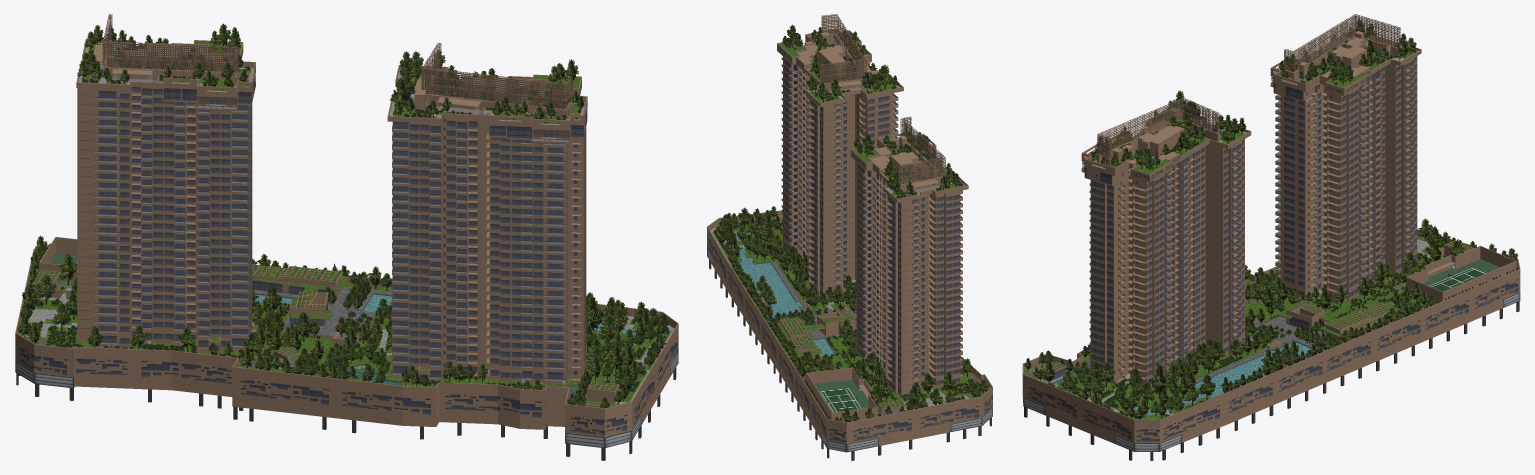
Rendered from midtown_modern.glb.
3 renders of one model, left to right at view 1: azimuth 30°, elevation 25°; view 2: azimuth 150°, elevation 25°; view 3: azimuth 270°, elevation 25°, orthographic. The views are drawn at different scales.
Parts seen in each view (by area): view 1: wall.080, wall.13317, Plane.2199, tree.133, wall.21450, Plane.267, tree.327, tree.303; view 2: wall.13317, Plane.2199, wall.080, tree.133, tree.327, tree.303, wall.21450, Plane.267; view 3: wall.080, wall.13317, Plane.2199, tree.133, tree.327, wall.21450, Plane.267, tree.303.
Part boxes in pixels (<box>): wall.080: <box>387,65,587,384</box>; wall.13317: <box>76,38,256,354</box>; Plane.2199: <box>15,237,678,460</box>; tree.133: <box>17,235,669,408</box>; wall.21450: <box>421,43,572,139</box>; Plane.267: <box>102,14,239,106</box>; tree.327: <box>389,50,584,123</box>; tree.303: <box>77,23,250,90</box>; wall.13317: <box>850,133,968,395</box>; Plane.2199: <box>707,210,992,460</box>; wall.080: <box>777,29,903,298</box>; tree.133: <box>713,206,988,422</box>; tree.327: <box>782,24,899,102</box>; tree.303: <box>854,131,963,198</box>; wall.21450: <box>819,14,866,84</box>; Plane.267: <box>898,116,945,185</box>; wall.080: <box>1081,107,1251,386</box>; wall.13317: <box>1270,31,1421,304</box>; Plane.2199: <box>1022,229,1520,460</box>; tree.133: <box>1023,218,1517,419</box>; tree.327: <box>1089,90,1246,170</box>; wall.21450: <box>1082,98,1219,168</box>; Plane.267: <box>1271,14,1400,83</box>; tree.303: <box>1278,20,1416,85</box>.
Bounding box in the file's own units: 202 × 129 × 213.
3 materials, 3 textured.
